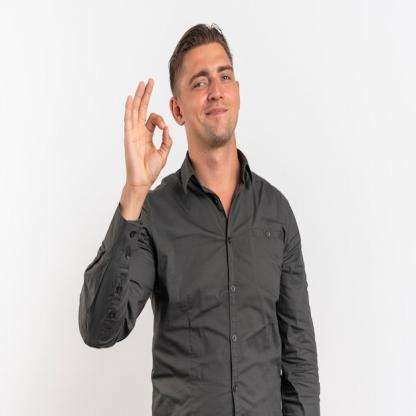ok: (124, 76, 174, 192)
